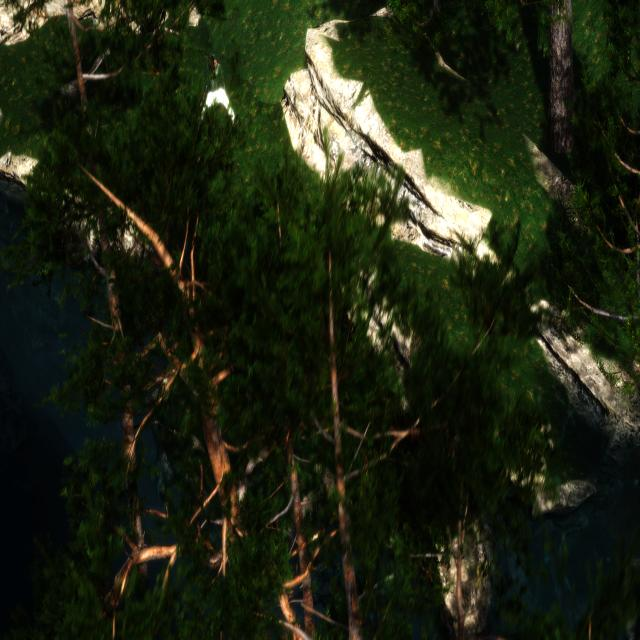Human: (195, 54, 240, 136)
